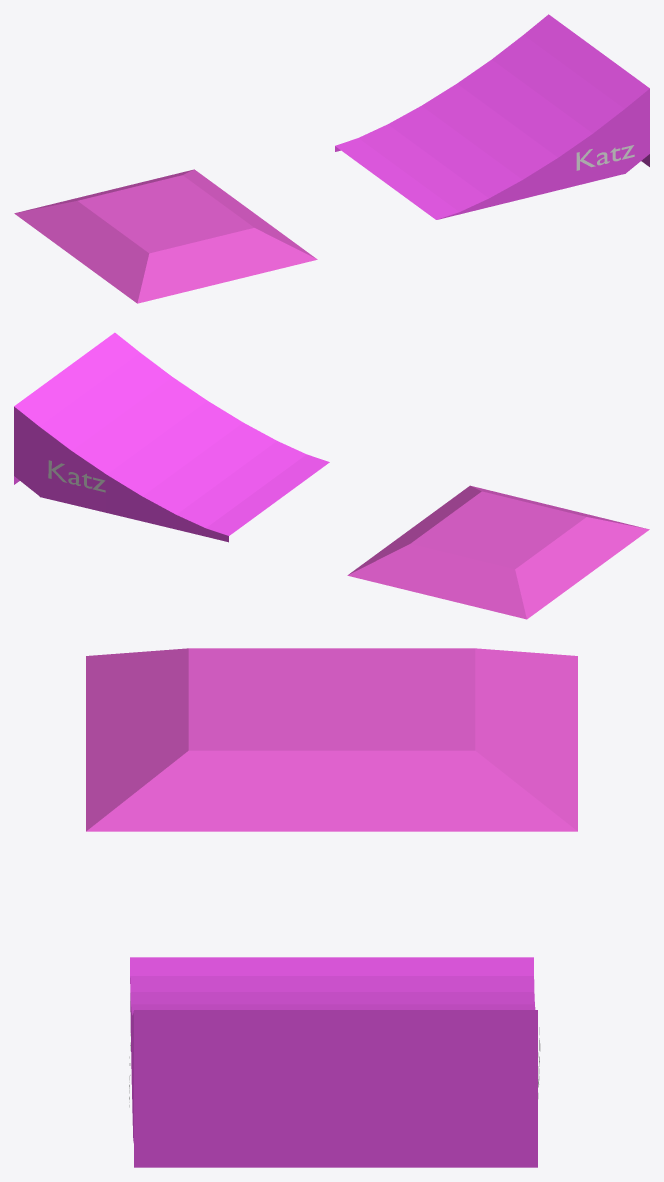
Rendered from cat ramps.fbx.
The picture shows the model from 3 angles, top to bottom: view 1: azimuth 30°, elevation 25°; view 2: azimuth 150°, elevation 25°; view 3: azimuth 270°, elevation 25°; orthographic projection. The views are drawn at different scales.
Parts seen in each view (by area): view 1: Plane.001, Plane, Text.001; view 2: Plane.001, Plane, Text; view 3: Plane, Plane.001.
Part boxes in pixels (x1,y1,x2,y2): Plane.001: [335, 14, 649, 219]; Plane: [14, 169, 317, 303]; Text.001: [576, 145, 634, 170]; Plane.001: [14, 332, 329, 542]; Plane: [347, 485, 649, 619]; Text: [48, 460, 105, 492]; Plane: [86, 648, 577, 831]; Plane.001: [130, 957, 537, 1167].
Size of the model in its own units: 3584 by 554 by 1460.
